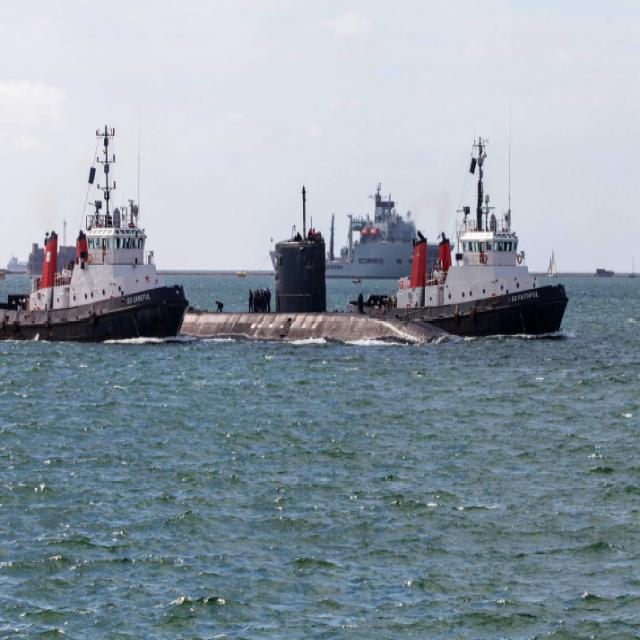submarine: (171, 243, 462, 340)
